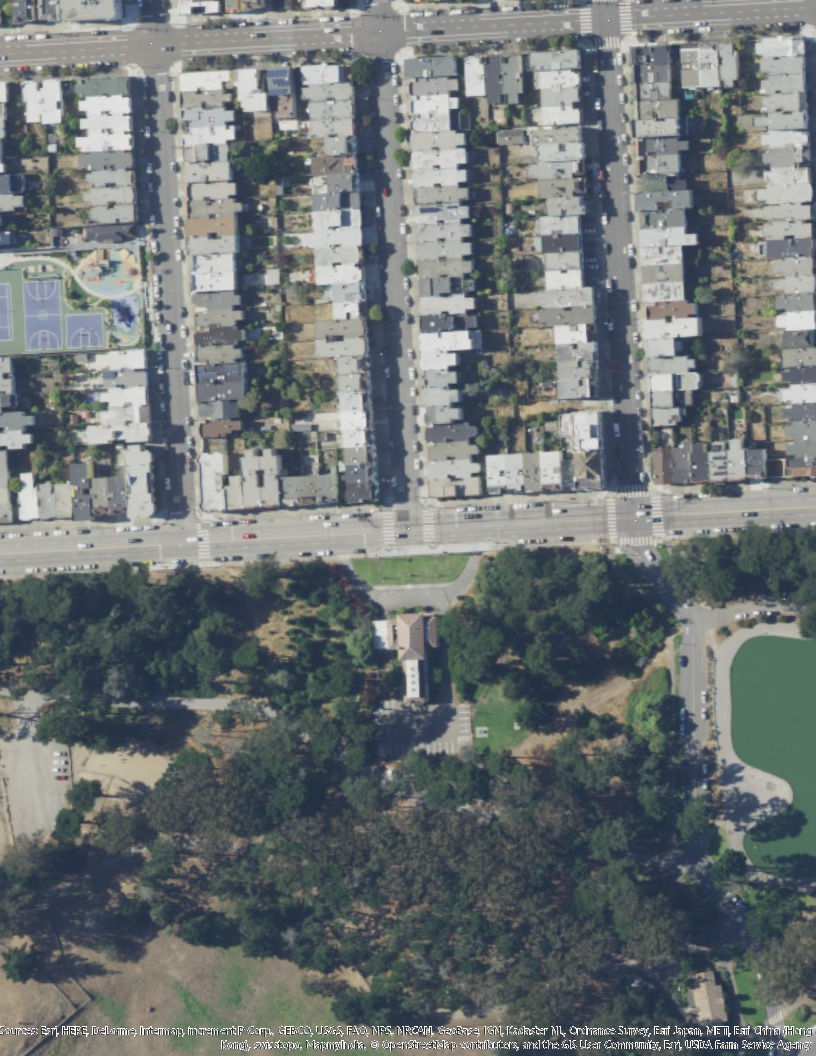zebracross: (650, 497, 666, 537), (604, 497, 618, 541), (383, 509, 398, 548), (196, 529, 212, 560), (422, 507, 435, 545), (616, 483, 651, 497), (619, 2, 634, 34), (579, 6, 593, 37), (621, 536, 662, 545), (595, 36, 622, 49)
